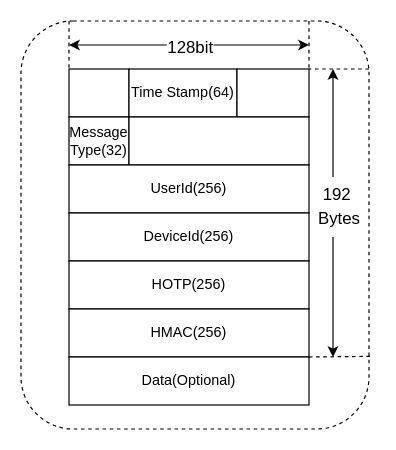
Image size: 396x450. Some labels were removed from this diagram. The centre of each missing label's shape, as x and y in pixels:
"Default(96)" goes at (x=218, y=140).
"Nonce(32)" goes at (x=272, y=92).
"Source IP(32)" goes at (x=98, y=92).
